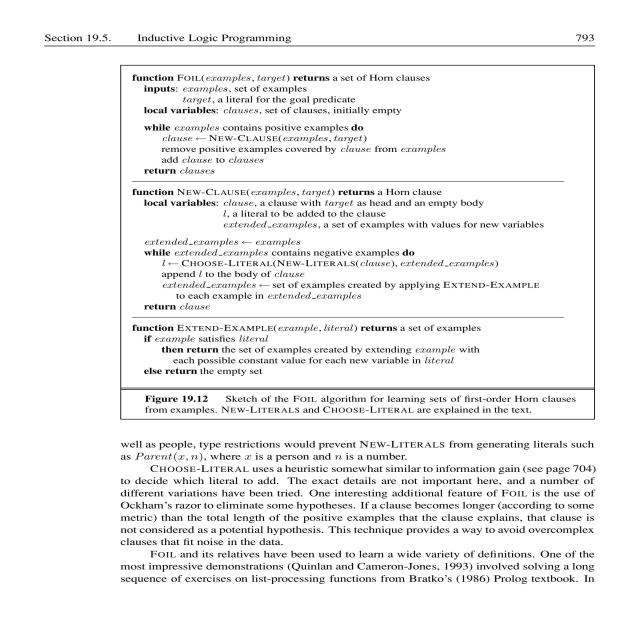diagram: (83, 59, 640, 421)
